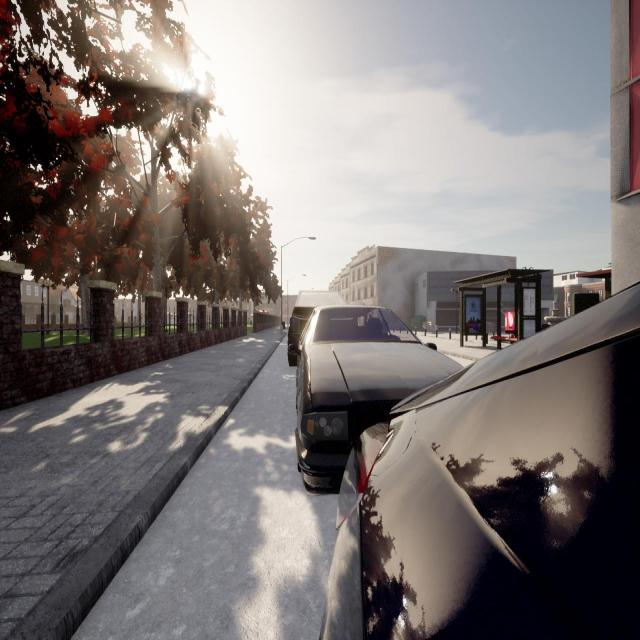Vehicle: (321, 284, 639, 638), (294, 305, 464, 494), (287, 290, 349, 365)
